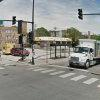Crosswalk: (33, 60, 100, 90)
